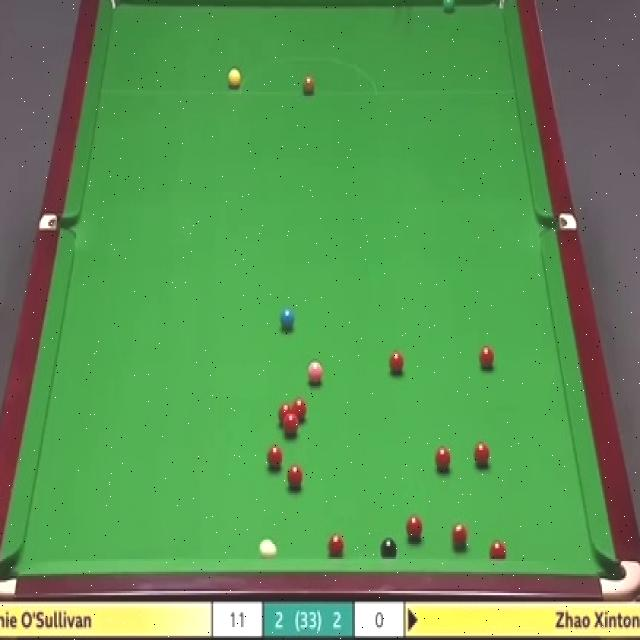black-ball: (378, 538, 397, 562)
blue-ball: (278, 307, 295, 334)
brown-ball: (300, 73, 316, 97)
green-ball: (442, 0, 458, 13)
pink-ball: (307, 357, 324, 385)
red-ball: (388, 348, 406, 379), (286, 464, 304, 494), (326, 530, 344, 558), (405, 515, 422, 544), (451, 522, 468, 551), (268, 443, 285, 471), (473, 441, 490, 468), (434, 447, 451, 473), (478, 344, 494, 371), (292, 399, 308, 425), (490, 539, 507, 560), (284, 416, 298, 437), (279, 403, 292, 424)
white-ball: (258, 537, 278, 560)
yellow-ball: (226, 68, 241, 88)
